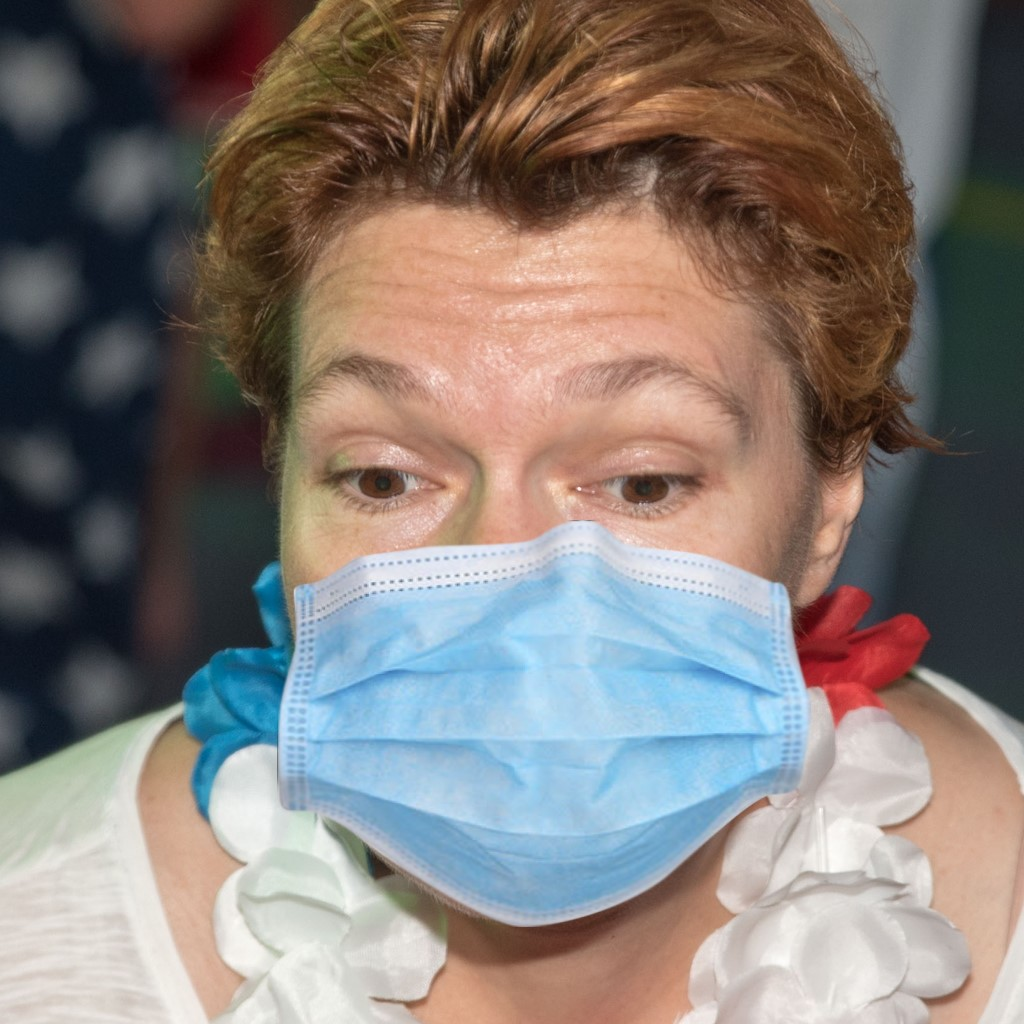con_mascara: (266, 169, 861, 932)
